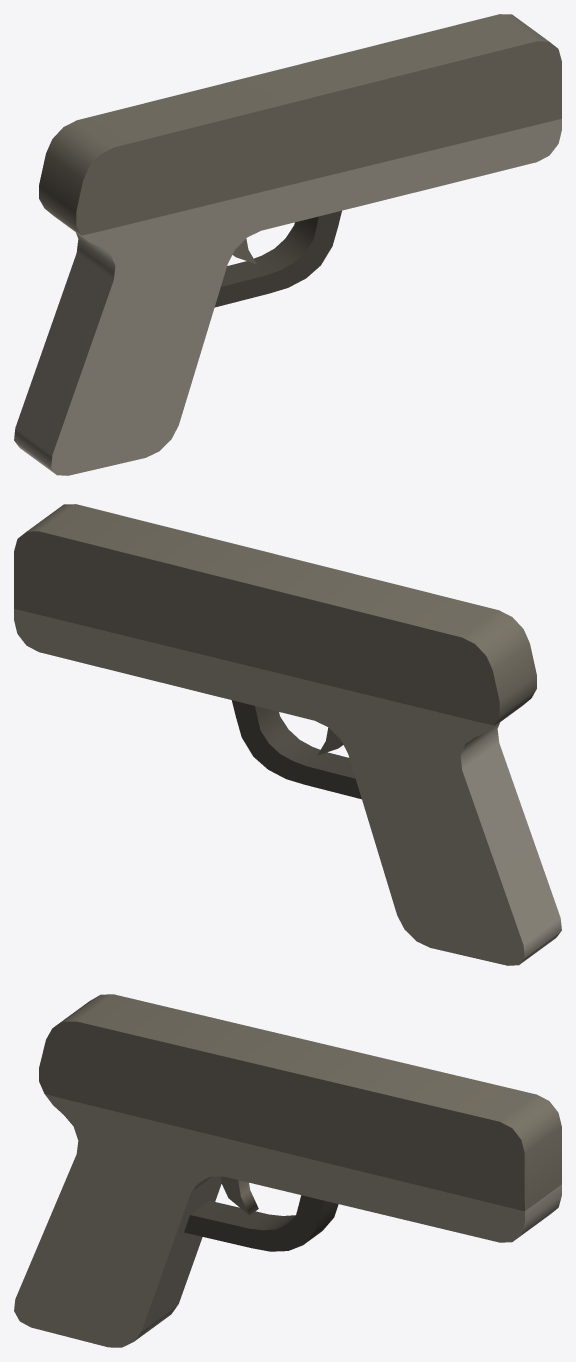
The model's file is Gun.fbx.
The picture shows the model from 3 angles, top to bottom: view 1: azimuth 30°, elevation 25°; view 2: azimuth 150°, elevation 25°; view 3: azimuth 330°, elevation 25°; orthographic projection.
Visible parts, largest first — view 1: Gun; view 2: Gun; view 3: Gun.
Part boxes in pixels (<box>): Gun: <box>14,14,561,475</box>; Gun: <box>14,504,561,965</box>; Gun: <box>14,994,561,1347</box>.
Bounding box in the file's own units: 0.5922 × 0.3557 × 0.0746.
